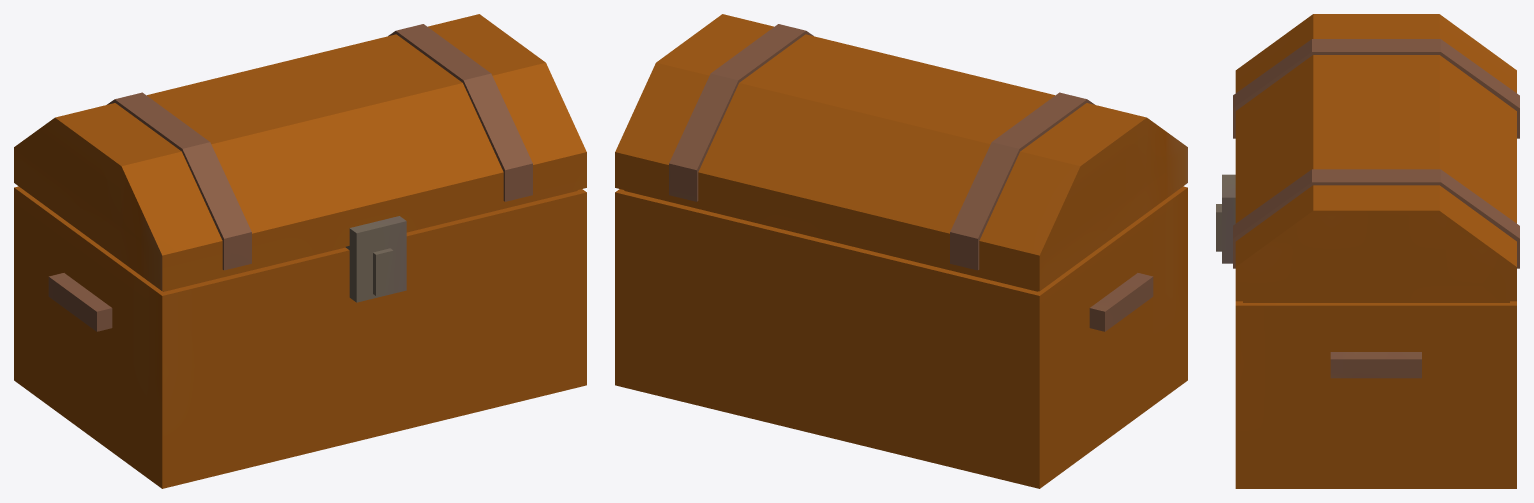
The model's file is kit-treasure-chest-2.glb.
3 views of the same model, side by side, from view 1: azimuth 30°, elevation 25°; view 2: azimuth 150°, elevation 25°; view 3: azimuth 270°, elevation 25° (orthographic). The views are drawn at different scales.
Visible parts, largest first — view 1: Cube.296; view 2: Cube.296; view 3: Cube.296.
Part boxes in pixels (left/top/right/bottom): Cube.296: left=14, top=14, right=586, bottom=488; Cube.296: left=615, top=14, right=1187, bottom=488; Cube.296: left=1216, top=14, right=1519, bottom=488.
Size of the model in its own units: 0.7928 by 0.4916 by 0.4814.
1 material, 1 textured.
